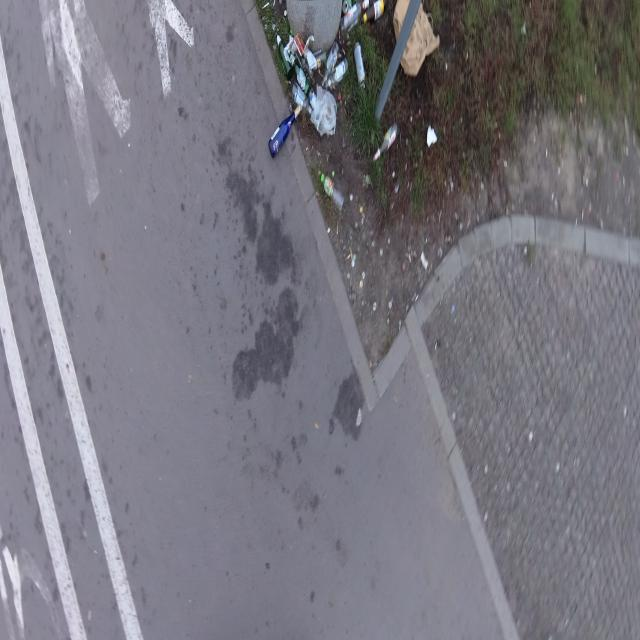rubbish: (268, 102, 302, 157), (292, 40, 318, 90), (310, 85, 335, 136), (320, 38, 340, 88), (372, 124, 397, 161), (321, 174, 344, 212), (276, 31, 294, 79), (325, 58, 350, 86), (290, 83, 310, 116), (354, 44, 365, 86), (426, 128, 437, 149)
